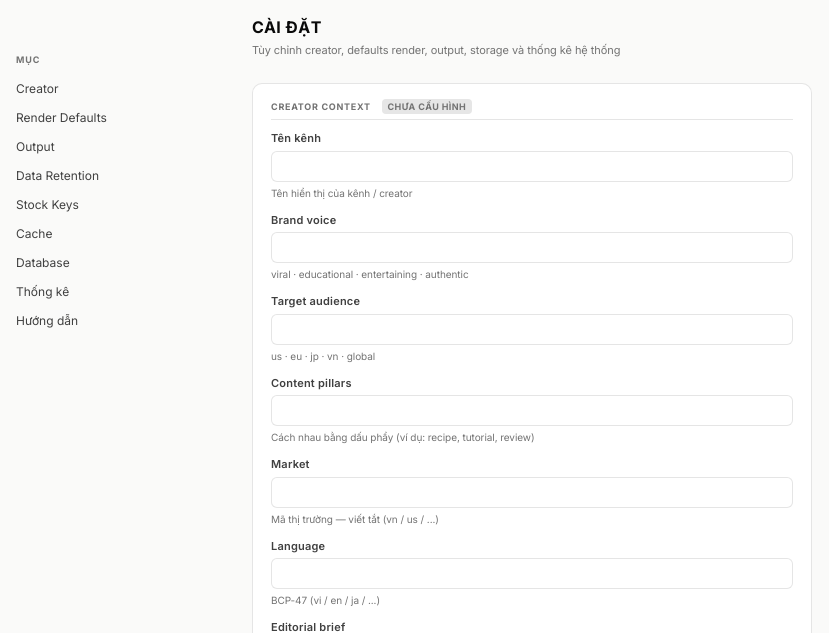
Test: SettingsScreen — Creator Context form CRUD › saves edited fields and surfaces Đã lưu status
The image size is (829, 633).
Type "New Channel" into the field with test id "cc-channel-name" at (532, 166), box [271,150,793,182]
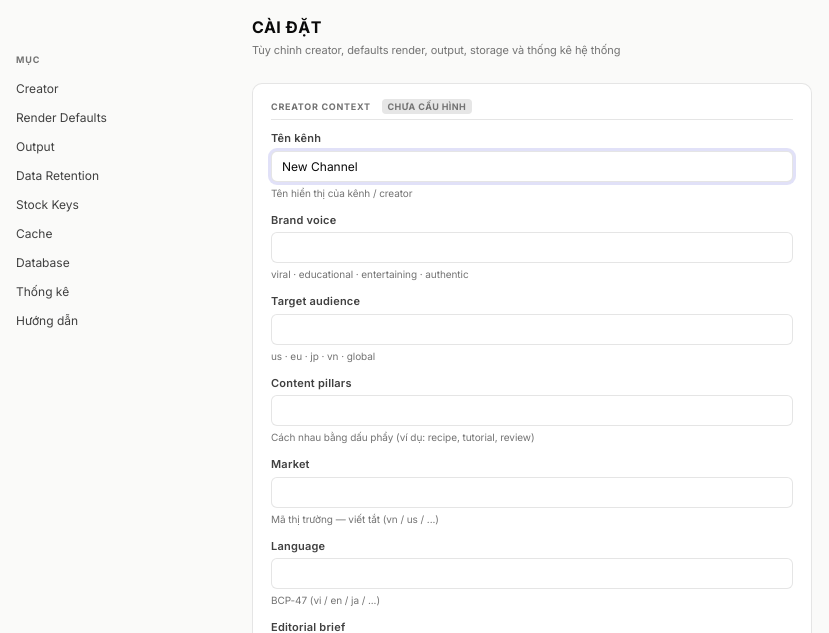
Type "educational" into the field with test id "cc-brand-voice" at (532, 248), box [271,232,793,263]
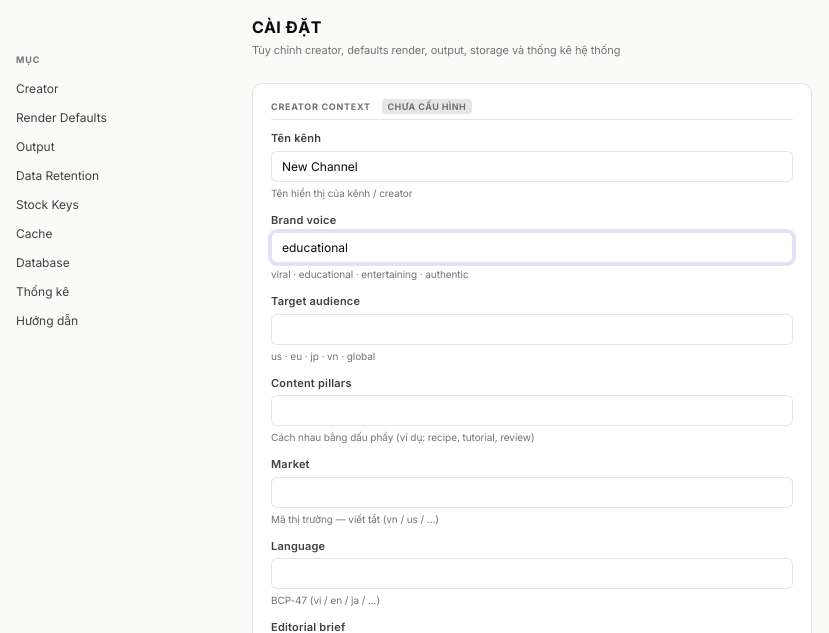
Type "cooking, travel, review" into the field with test id "cc-content-pillars" at (532, 410), box [271,395,793,426]
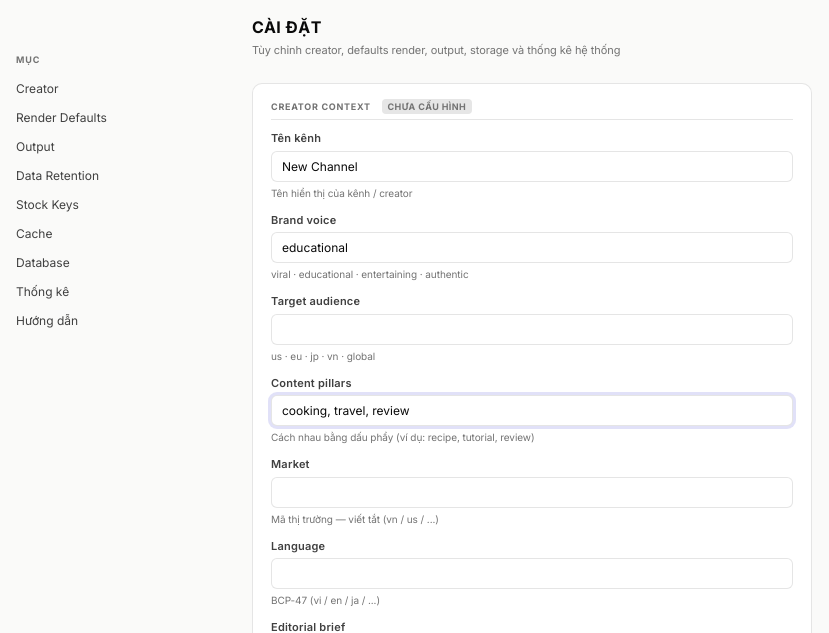
Type "vi" into the field with test id "cc-language" at (532, 574), box [271,558,793,589]
(page scrolled)
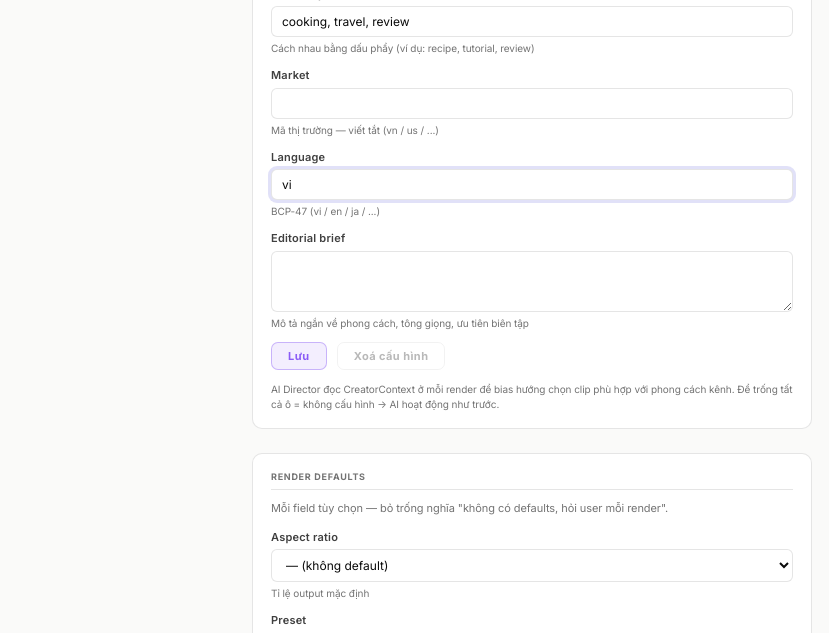
Click the button with test id "cc-save" at (299, 356), box [271,342,327,370]
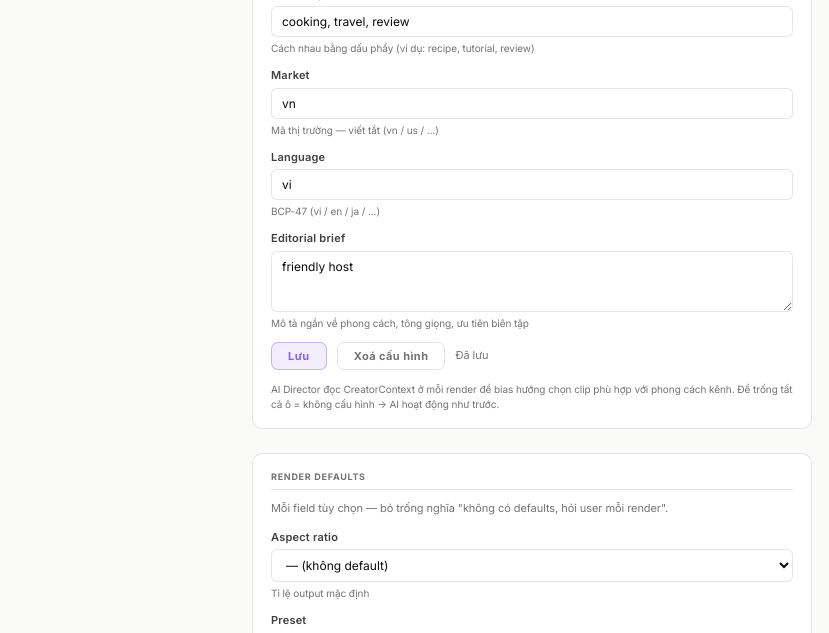
Result: the text with test id "cc-status" reads "Đã lưu" at [455,348,488,362]
